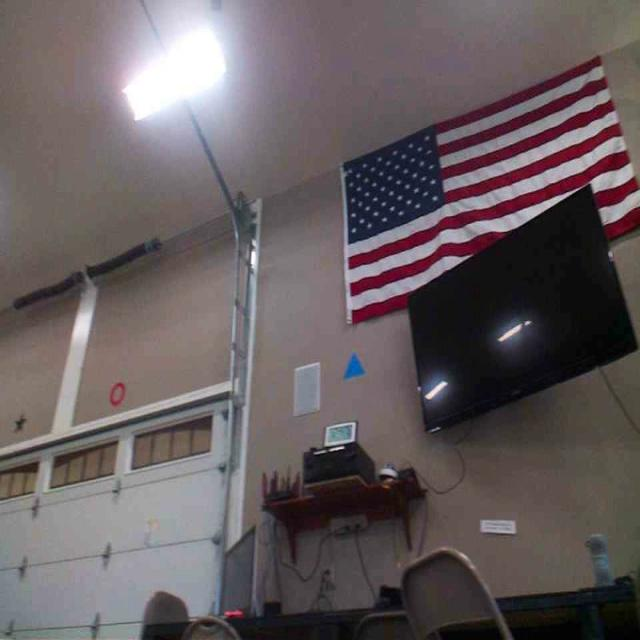ring_red: (109, 380, 126, 406)
star_black: (12, 411, 27, 433)
triangle_blue: (342, 350, 367, 379)
